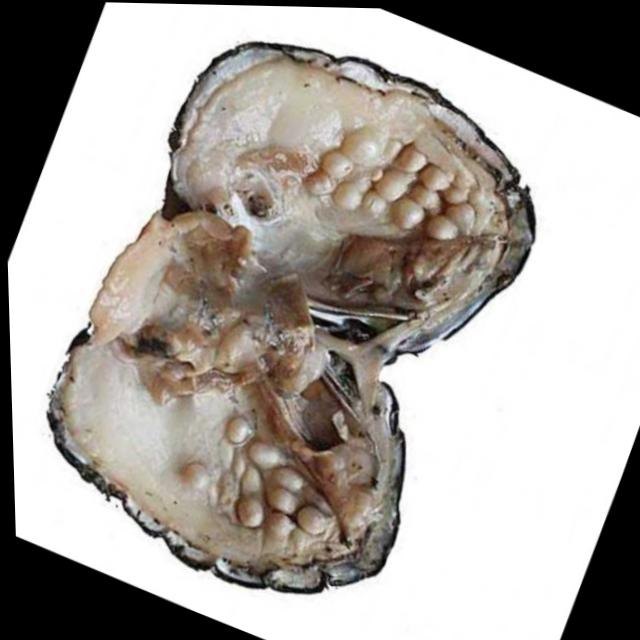Oyster-Open: (6, 0, 583, 640)
